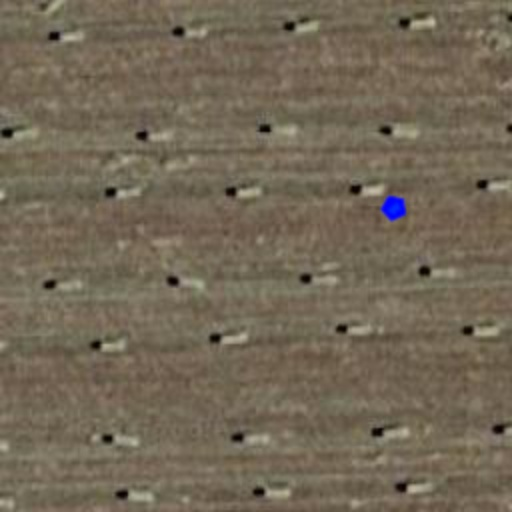pentagon: (374, 188, 414, 228)
